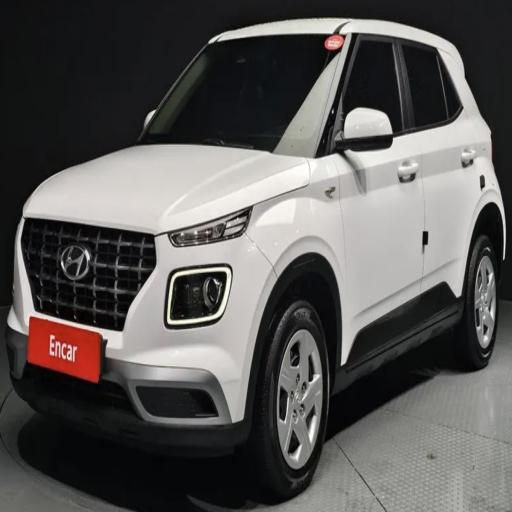normal: (15, 6, 506, 500)
